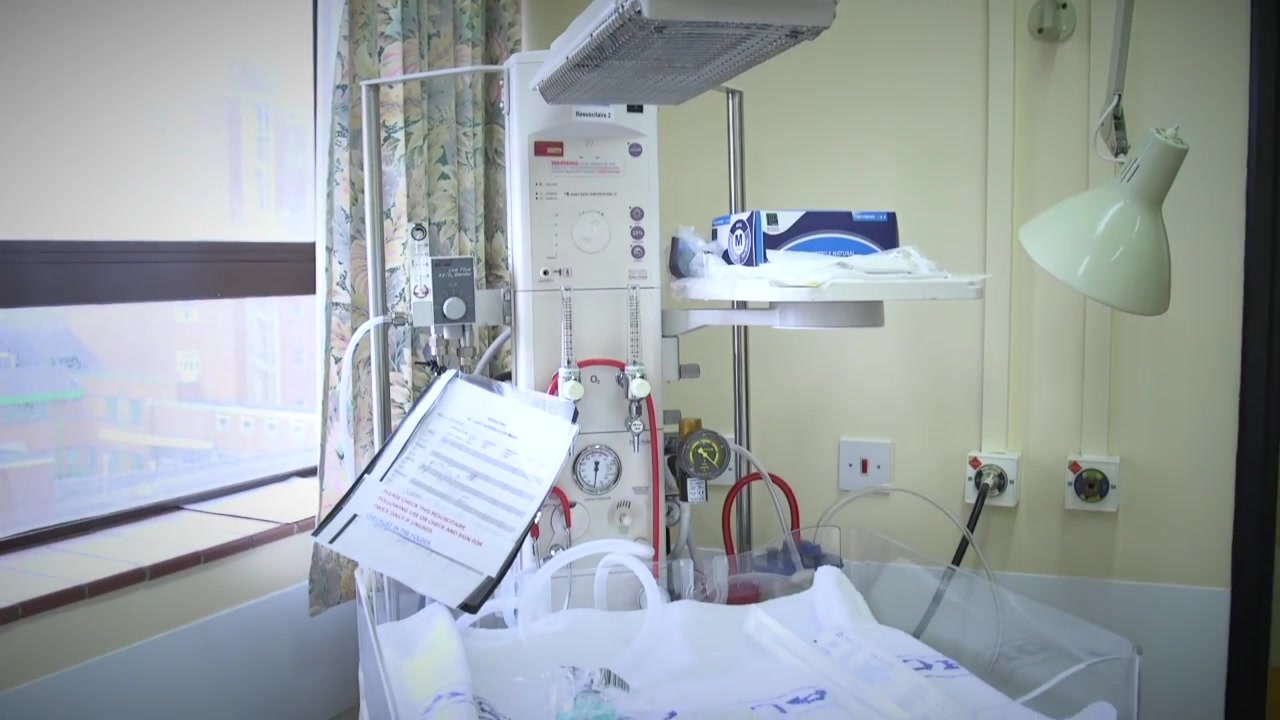breathing_tube: (456, 541, 667, 692)
curtain: (305, 1, 528, 620)
panda_baby_warmer: (357, 5, 1112, 720)
